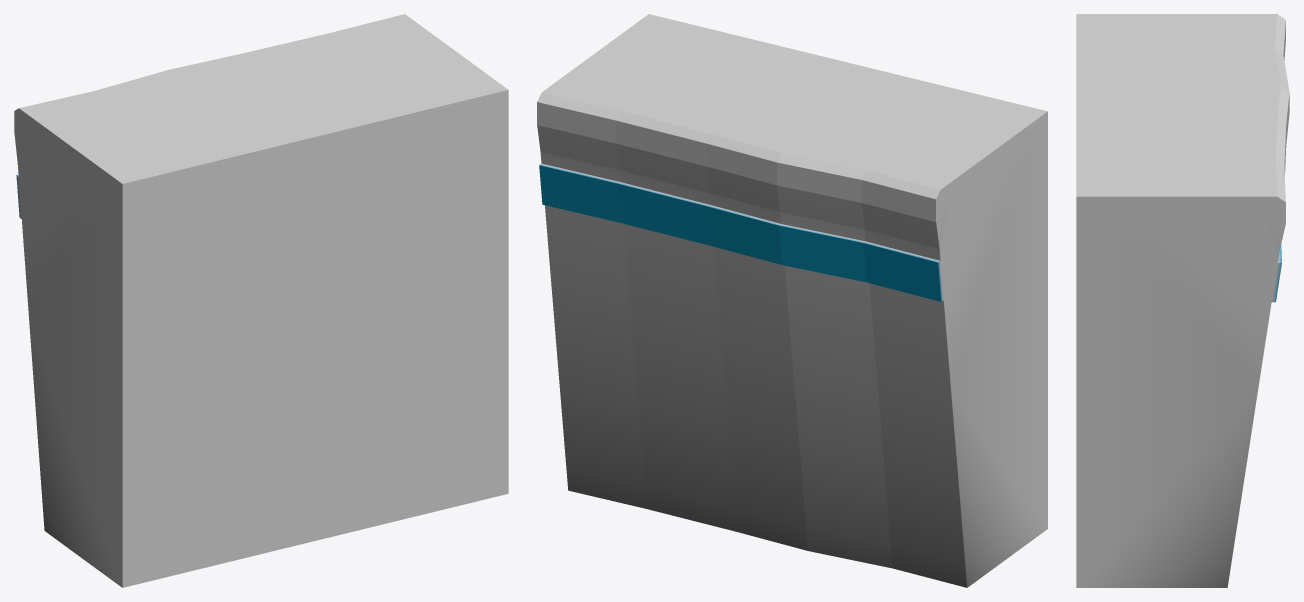
Rendered from NeonCityV4_Edge_V4.fbx.
3 renders of one model, left to right at view 1: azimuth 30°, elevation 25°; view 2: azimuth 150°, elevation 25°; view 3: azimuth 270°, elevation 25°, orthographic. The views are drawn at different scales.
Parts seen in each view (by area): view 1: NeonCityV4_Edge_V4; view 2: NeonCityV4_Edge_V4; view 3: NeonCityV4_Edge_V4.
Part boxes in pixels (x1,y1,x2,y2): NeonCityV4_Edge_V4: (14, 14, 508, 587); NeonCityV4_Edge_V4: (537, 14, 1047, 587); NeonCityV4_Edge_V4: (1076, 14, 1289, 587).
Bounding box in the file's own units: 1 × 1 × 0.4935.
